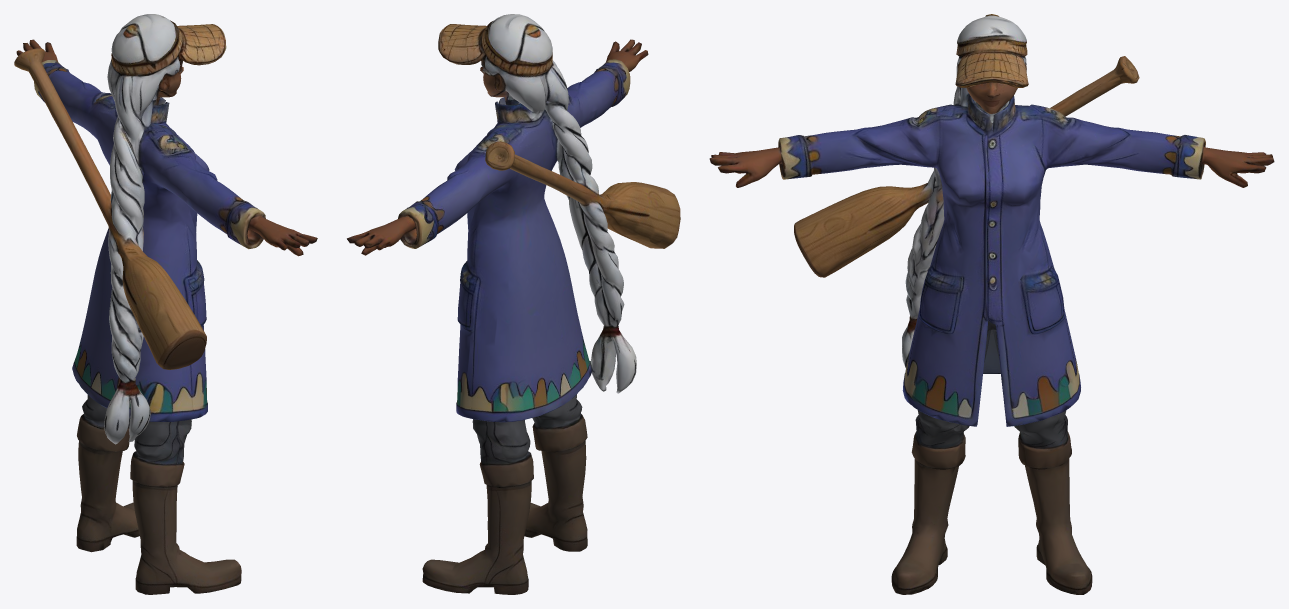
Rendered from n2_ferry.5dbb8b92.glb.
3 renders of one model, left to right at view 1: azimuth 30°, elevation 25°; view 2: azimuth 150°, elevation 25°; view 3: azimuth 270°, elevation 25°, orthographic. The views are drawn at different scales.
Parts seen in each view (by area): view 1: tripo_node_5250e2d2-eeb7-42a5-95a3-3d34312e61ea; view 2: tripo_node_5250e2d2-eeb7-42a5-95a3-3d34312e61ea; view 3: tripo_node_5250e2d2-eeb7-42a5-95a3-3d34312e61ea.
Part boxes in pixels (left/top/right/bottom): tripo_node_5250e2d2-eeb7-42a5-95a3-3d34312e61ea: left=14, top=14, right=317, bottom=594; tripo_node_5250e2d2-eeb7-42a5-95a3-3d34312e61ea: left=347, top=14, right=680, bottom=594; tripo_node_5250e2d2-eeb7-42a5-95a3-3d34312e61ea: left=709, top=14, right=1274, bottom=594.
Bounding box in the file's own units: 0.2934 × 0.9998 × 0.9247.
Materials: 1 (1 with a texture image).
